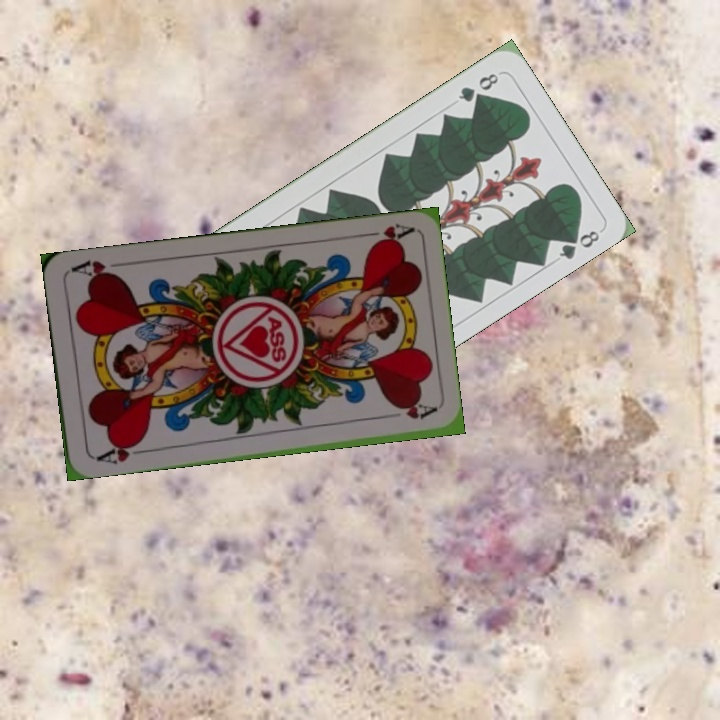G8: (454, 69, 501, 105)
HA: (90, 436, 149, 467), (355, 219, 415, 249)
